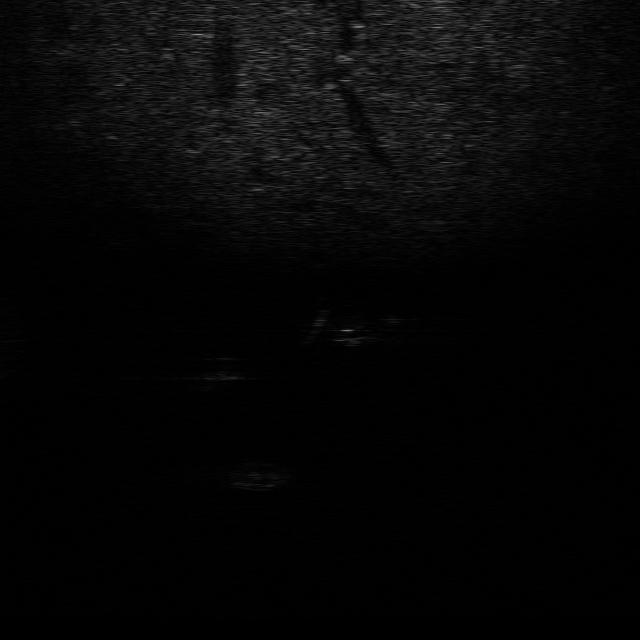ball: (186, 352, 245, 388)
circle cage: (186, 455, 290, 493)
human body: (296, 304, 400, 348)
